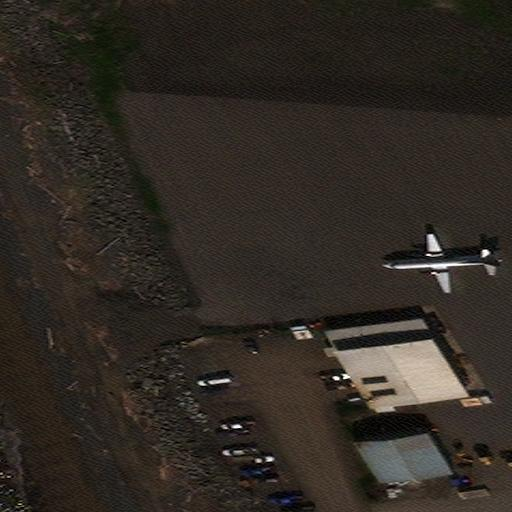Medium Civil Transport: (380, 234, 501, 293)
